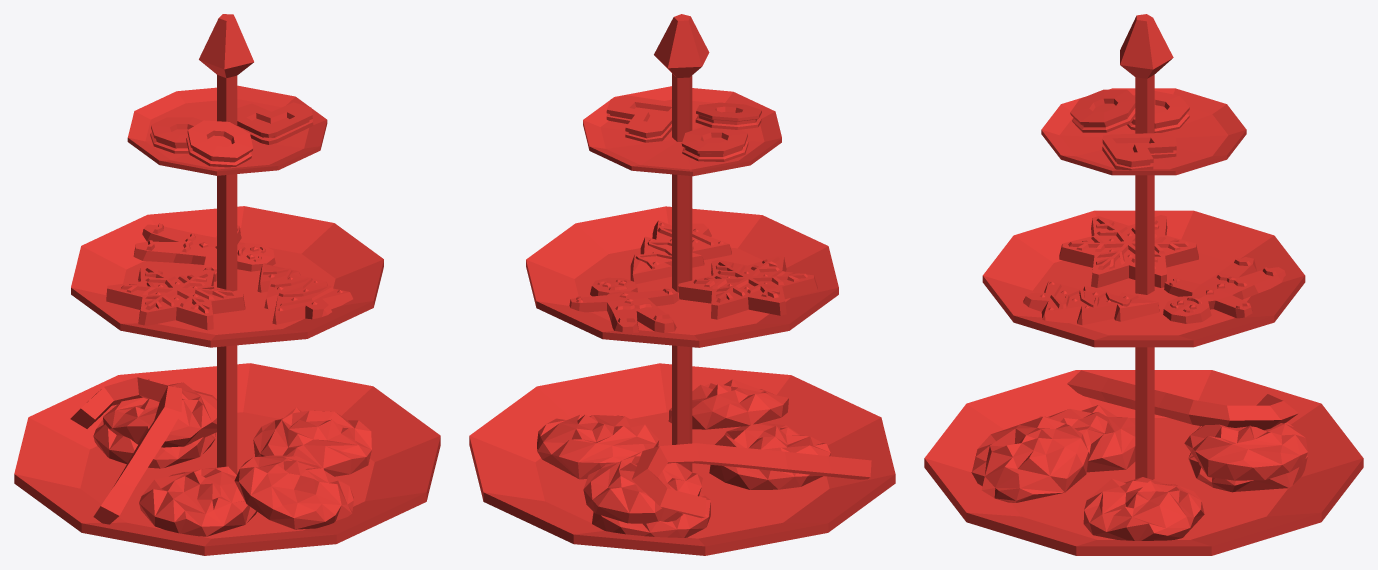
The model's file is SM_Etagere_Christmas_Full.fbx.
The picture shows the model from 3 angles, left to right: view 1: azimuth 30°, elevation 25°; view 2: azimuth 150°, elevation 25°; view 3: azimuth 270°, elevation 25°; orthographic projection.
Parts seen in each view (by area): view 1: etagere-christmas-full; view 2: etagere-christmas-full; view 3: etagere-christmas-full.
Boxes of the visible parts, x1,y1,x2,y2 form: etagere-christmas-full: (14, 14, 440, 555); etagere-christmas-full: (469, 14, 895, 555); etagere-christmas-full: (924, 14, 1363, 555).
Bounding box in the file's own units: 0.2995 × 0.3728 × 0.315.
